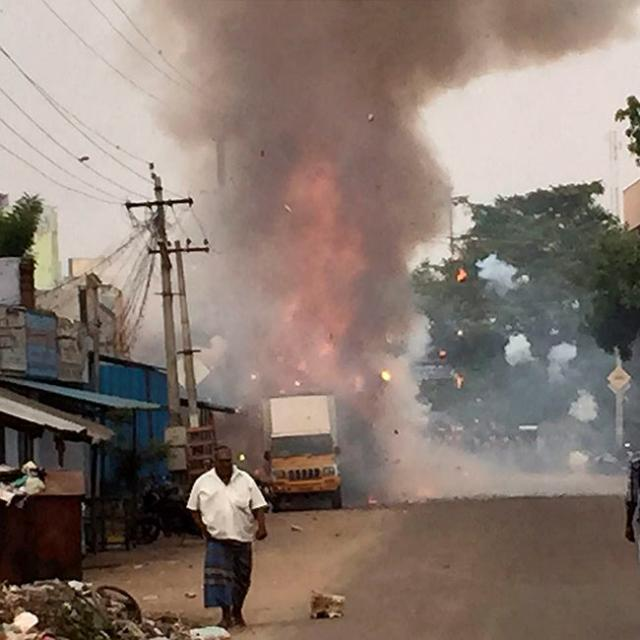Smoke: (138, 0, 480, 502)
